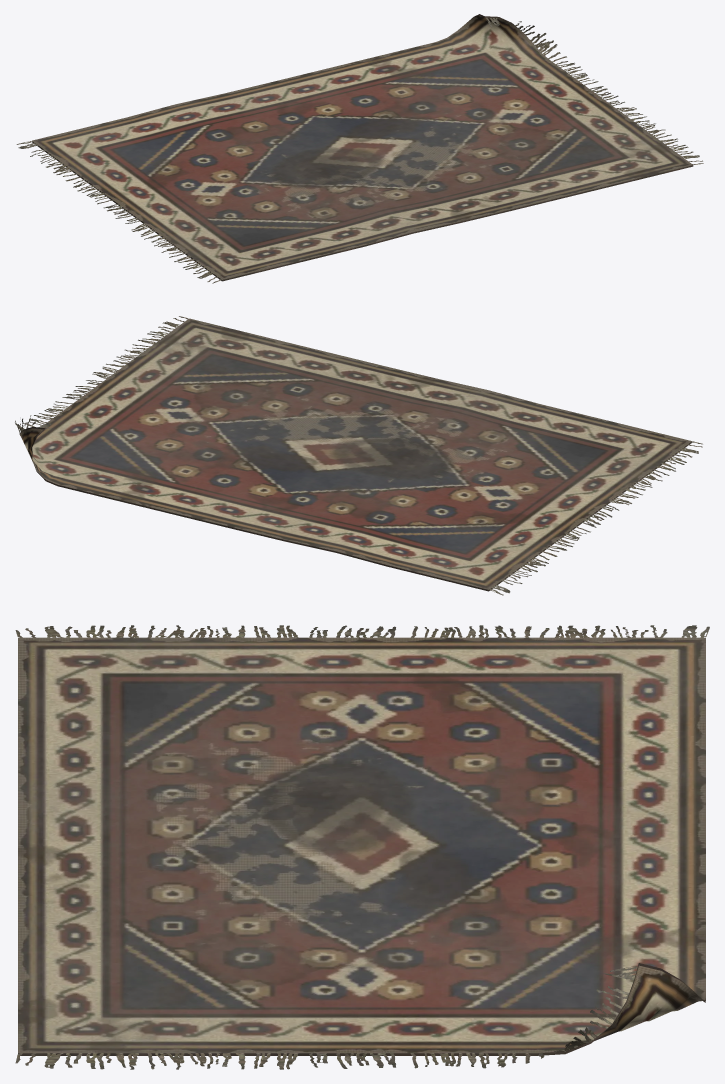
The model's file is dressing_rug.glb.
3 renders of one model, top to bottom at view 1: azimuth 30°, elevation 25°; view 2: azimuth 150°, elevation 25°; view 3: azimuth 270°, elevation 25°, orthographic. The views are drawn at different scales.
Parts seen in each view (by area): view 1: dressing_rug, dressing_rug_cutout; view 2: dressing_rug, dressing_rug_cutout; view 3: dressing_rug, dressing_rug_cutout.
Boxes of the visible parts, x1=… form: dressing_rug: x1=32, y1=14, x2=693, y2=281; dressing_rug_cutout: x1=16, y1=17, x2=703, y2=283; dressing_rug: x1=19, y1=318, x2=691, y2=591; dressing_rug_cutout: x1=15, y1=316, x2=702, y2=595; dressing_rug: x1=18, y1=637, x2=705, y2=1055; dressing_rug_cutout: x1=15, y1=625, x2=709, y2=1069.
Size of the model in its own units: 2.14 by 0.1359 by 1.42.
Materials: 2 (2 with a texture image).
